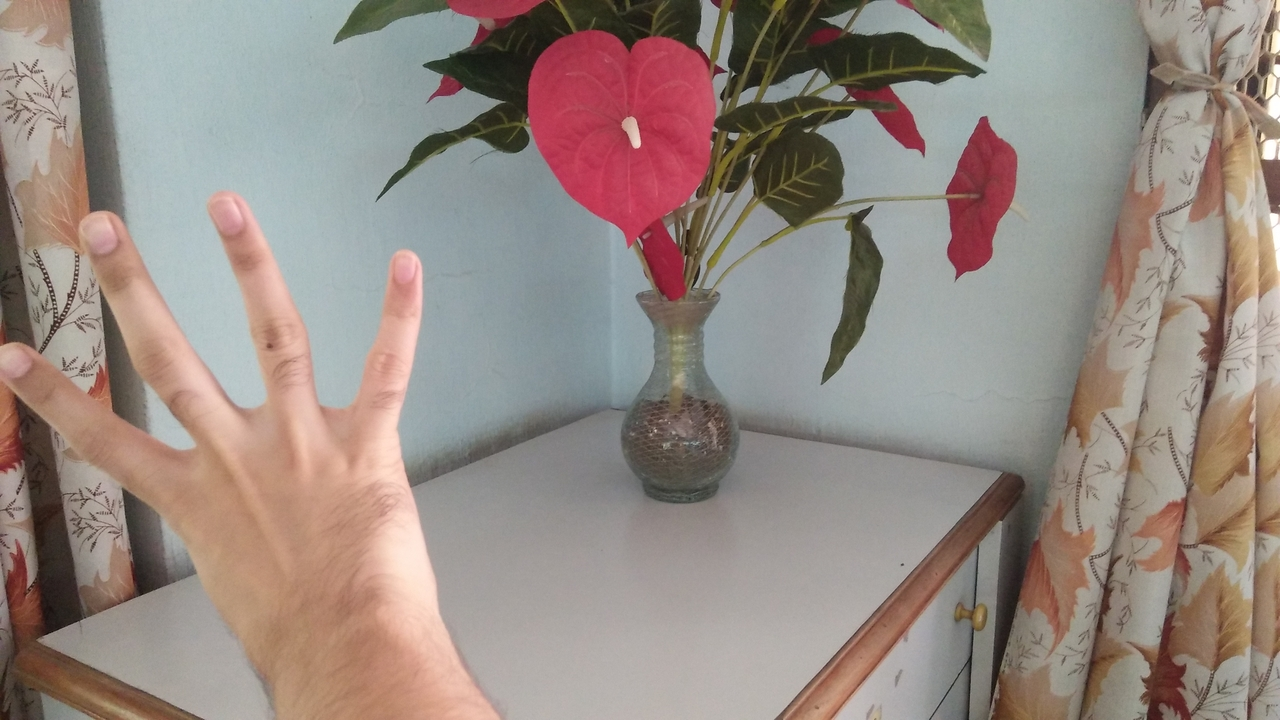fingertip: (190, 182, 258, 242), (72, 208, 130, 264), (374, 238, 428, 290), (1, 333, 45, 387)
